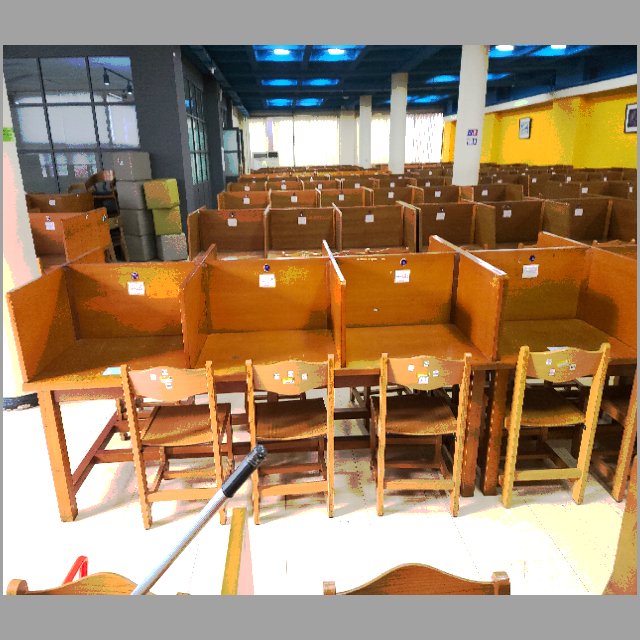empty: (6, 275, 186, 446), (351, 235, 499, 433), (190, 263, 347, 437)
